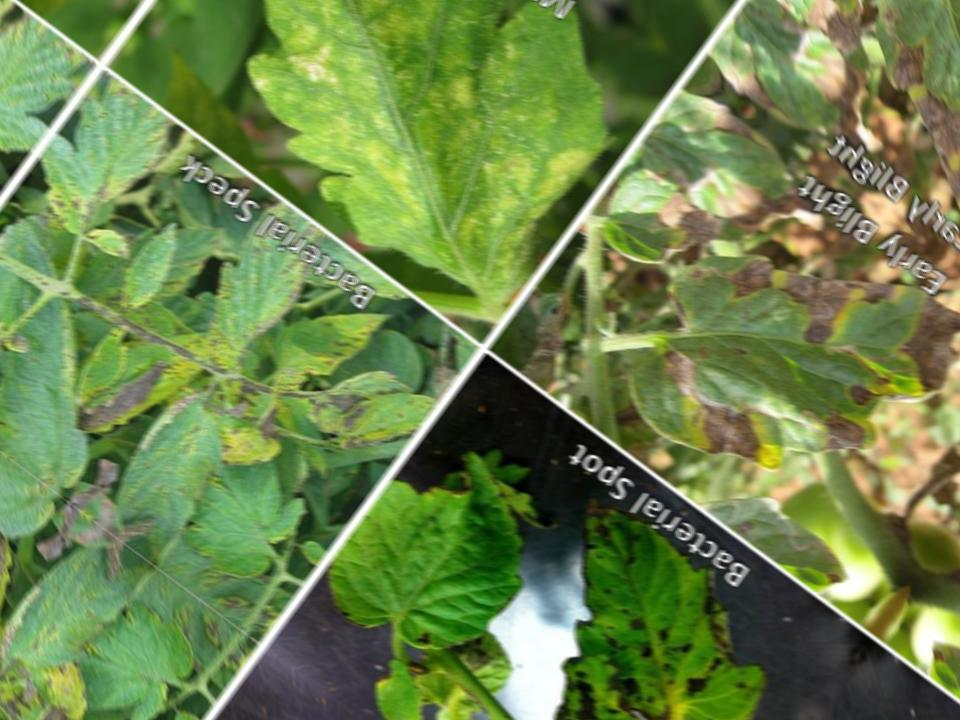Tomato Early blight leaf: (577, 157, 960, 576)
Tomato leaf bacterial spot: (445, 468, 837, 720), (302, 388, 603, 707), (6, 73, 209, 285), (91, 364, 281, 565), (144, 422, 339, 615), (170, 201, 345, 397), (237, 253, 403, 436), (296, 324, 440, 472), (52, 310, 159, 428)
